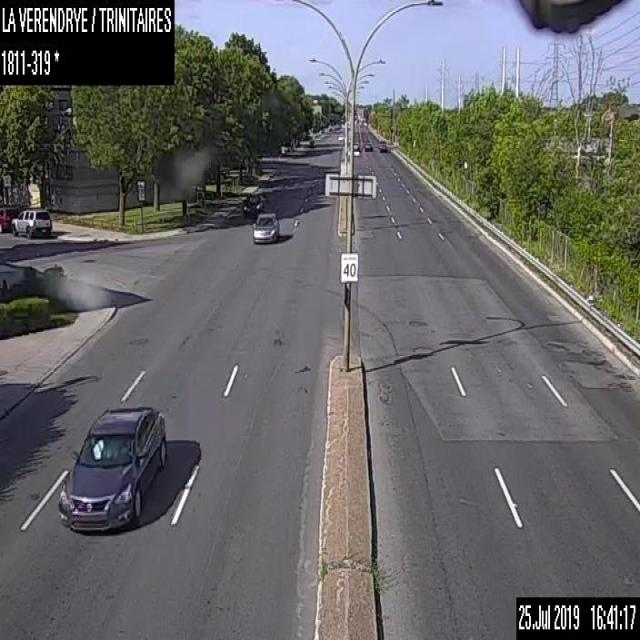vehicle: (56, 402, 168, 534), (10, 208, 52, 238), (252, 212, 278, 242), (242, 194, 264, 218), (0, 205, 18, 232), (378, 140, 386, 149), (364, 140, 371, 149), (336, 133, 344, 140), (353, 148, 360, 156), (353, 141, 359, 148)
